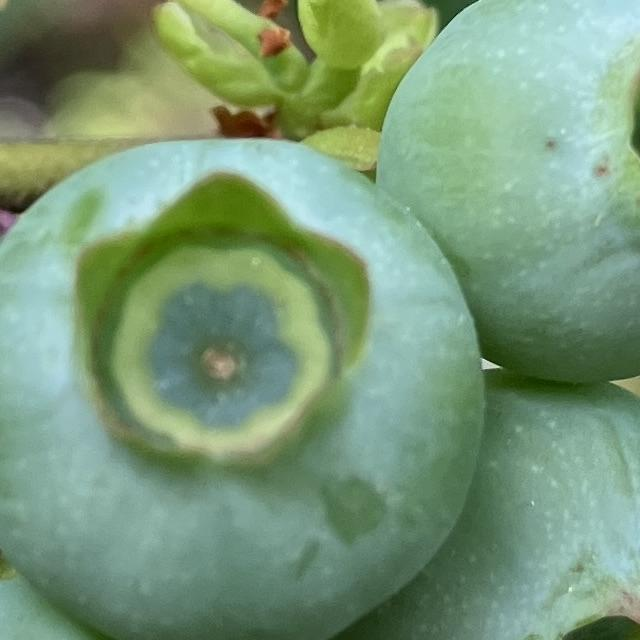Blueberries: (0, 129, 485, 640)
